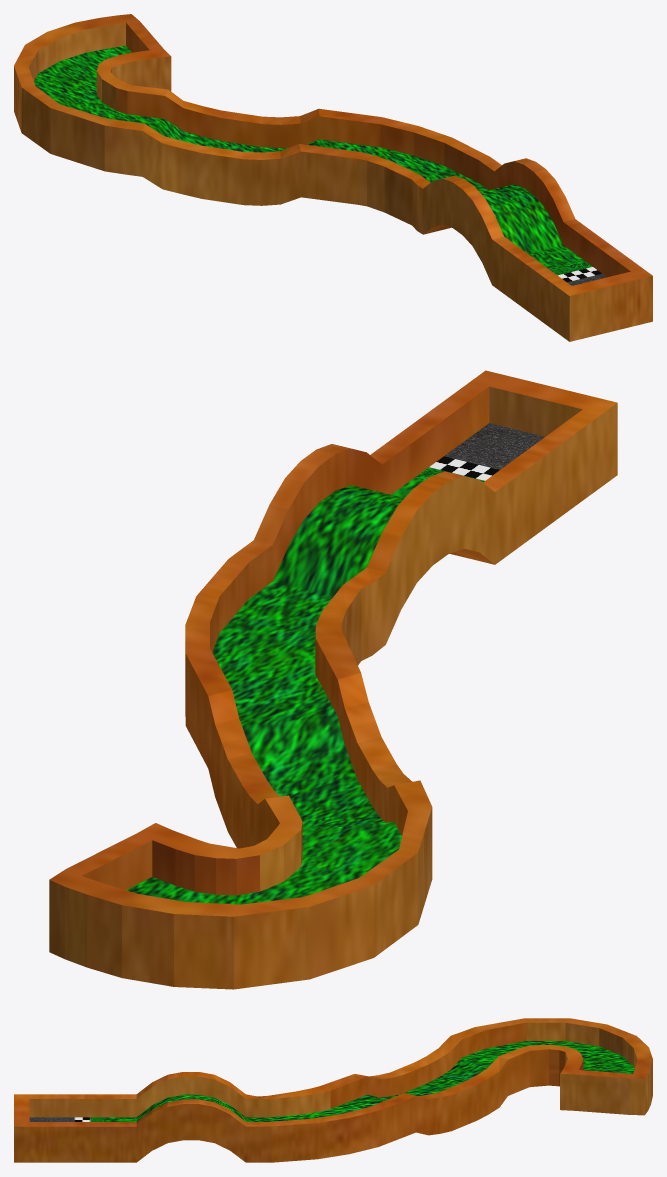
The model's file is Stage2.FBX.
3 renders of one model, top to bottom at view 1: azimuth 30°, elevation 25°; view 2: azimuth 150°, elevation 25°; view 3: azimuth 270°, elevation 25°, orthographic. The views are drawn at different scales.
Parts seen in each view (by area): view 1: Box001; view 2: Box001; view 3: Box001.
Part boxes in pixels (x1,y1,x2,y2): Box001: [14, 14, 652, 341]; Box001: [49, 370, 617, 989]; Box001: [14, 1018, 652, 1162].
Size of the model in its own units: 164 by 50.2 by 409.
1 material, 1 textured.
